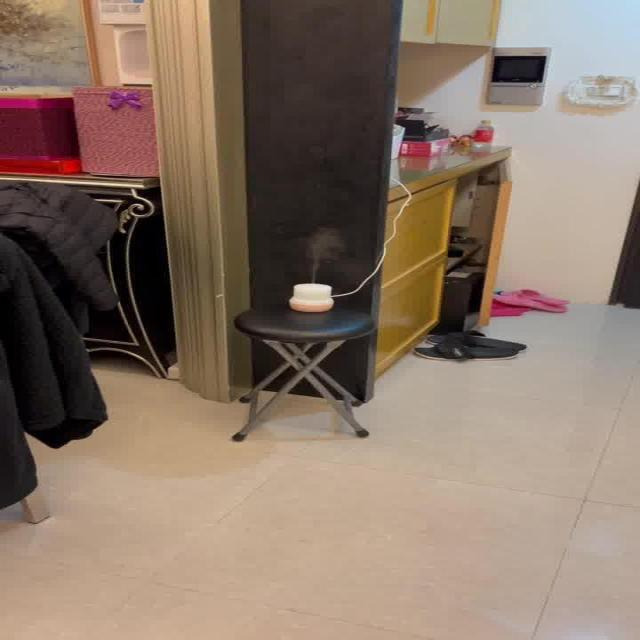fire: (303, 223, 350, 280)
